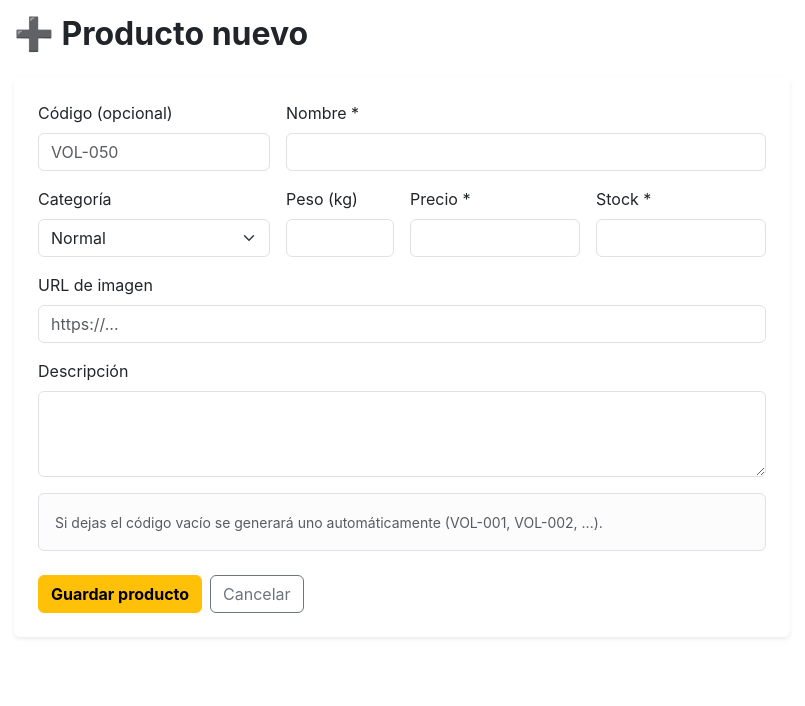
Scenario: ProductNew - CRUD Create producto › valida el formato del código (solo letras, números y guiones)
The image size is (805, 706).
Step 1. Type "INVALIDO@" into the field with placeholder "VOL-050" → point(154, 152), box [38,133,270,171]
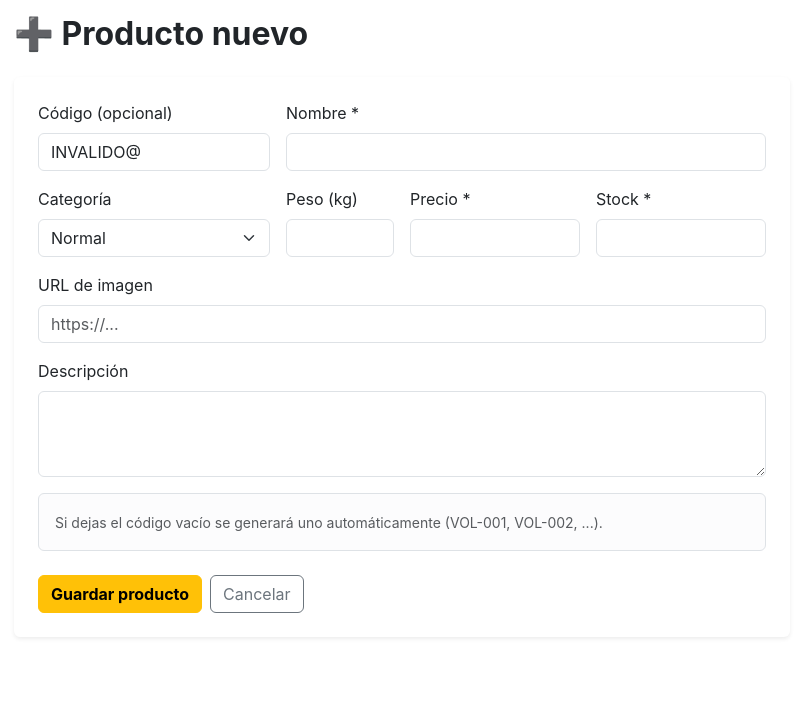
Step 2. Click the button "Guardar producto" → point(120, 594), box [38,575,202,613]
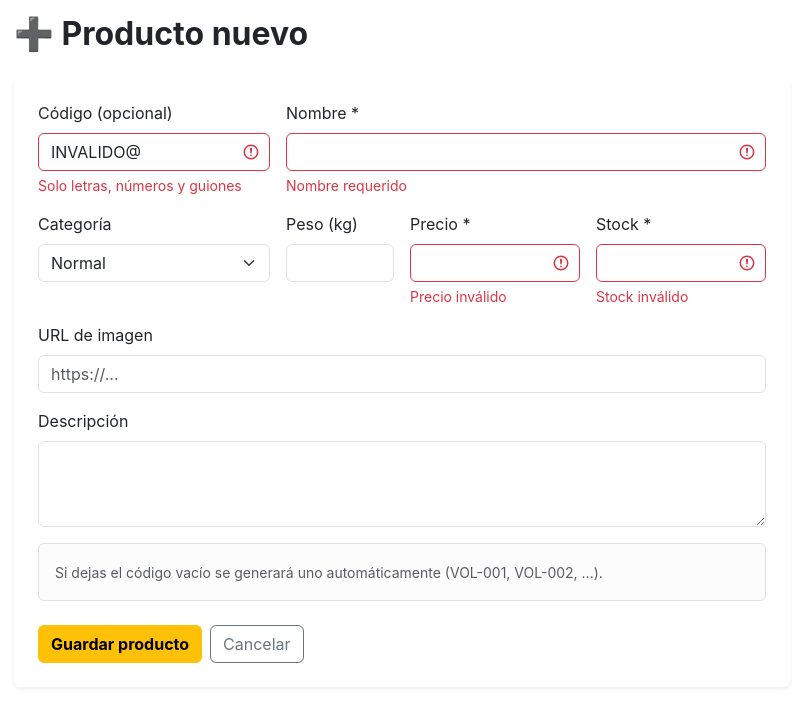
Check: the text "Solo letras, números y guiones" is shown, box [38,175,270,196]
